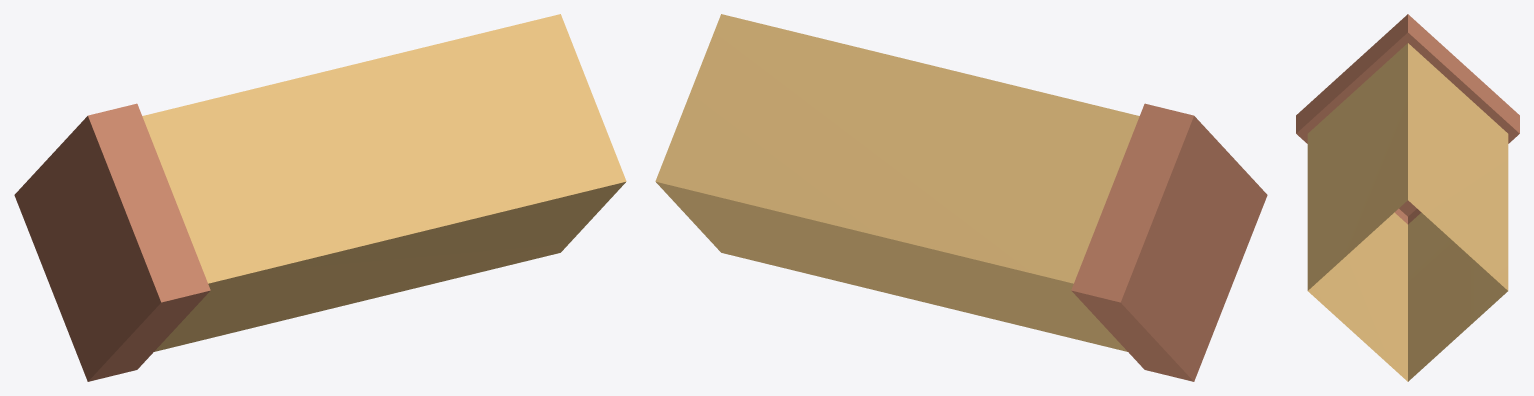
Rendered from shell-shotgun.glb.
The picture shows the model from 3 angles, left to right: view 1: azimuth 30°, elevation 25°; view 2: azimuth 150°, elevation 25°; view 3: azimuth 270°, elevation 25°; orthographic projection. The views are drawn at different scales.
Parts seen in each view (by area): view 1: bullet-shotgun; view 2: bullet-shotgun; view 3: bullet-shotgun.
Part boxes in pixels (x1,y1,x2,y2): bullet-shotgun: (14, 14, 626, 381); bullet-shotgun: (655, 14, 1267, 381); bullet-shotgun: (1296, 14, 1519, 381).
Bounding box in the file's own units: 0.0191 × 0.0103 × 0.0103.
